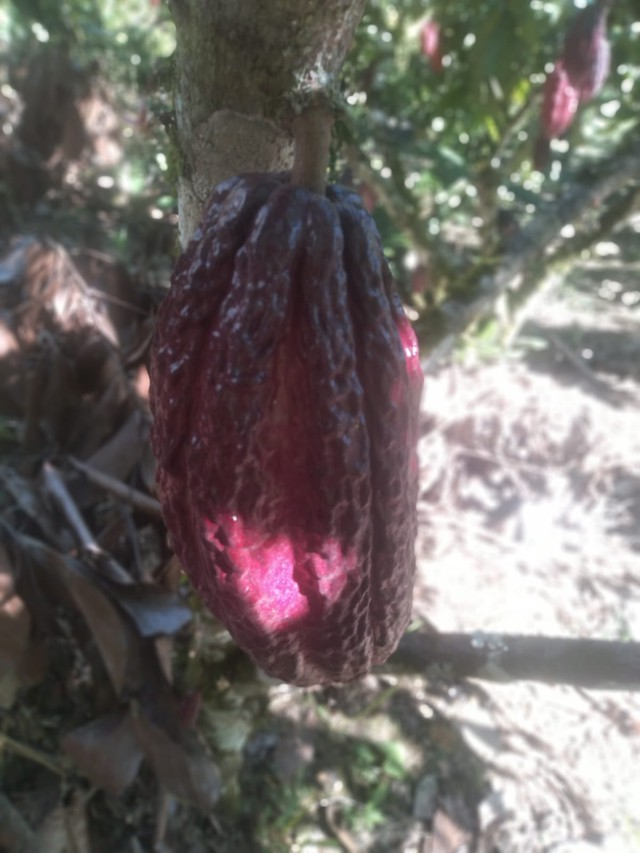Health: (125, 150, 443, 698)
